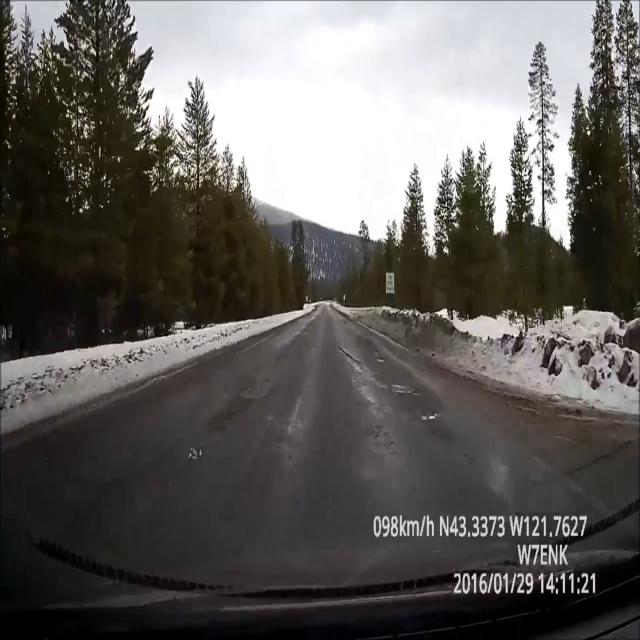Pothole: (381, 374, 429, 399)
